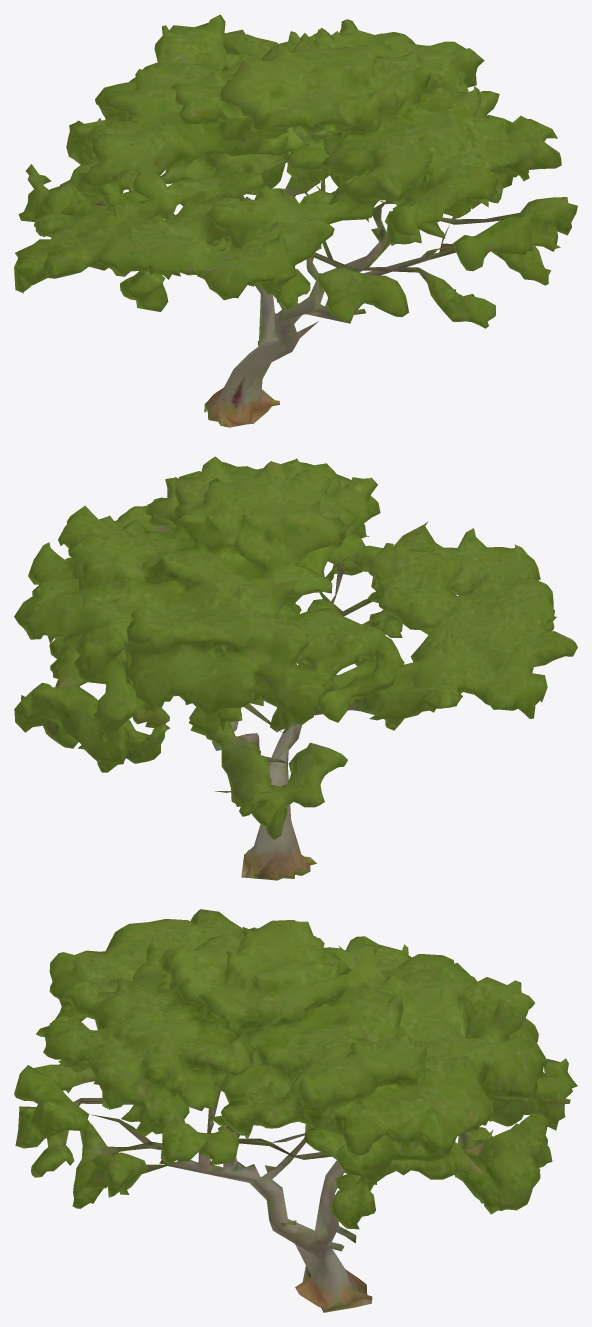
File: savannahtree.glb
3 renders of one model, top to bottom at view 1: azimuth 30°, elevation 25°; view 2: azimuth 150°, elevation 25°; view 3: azimuth 270°, elevation 25°, orthographic. The views are drawn at different scales.
Visible parts, largest first — view 1: Mesh_0; view 2: Mesh_0; view 3: Mesh_0.
Boxes of the visible parts, bbox=[...] form: Mesh_0: bbox=[14, 14, 577, 427]; Mesh_0: bbox=[14, 456, 577, 880]; Mesh_0: bbox=[14, 909, 577, 1312].
Size of the model in its own units: 1.88 by 1.28 by 1.75.
Materials: 1 (1 with a texture image).
